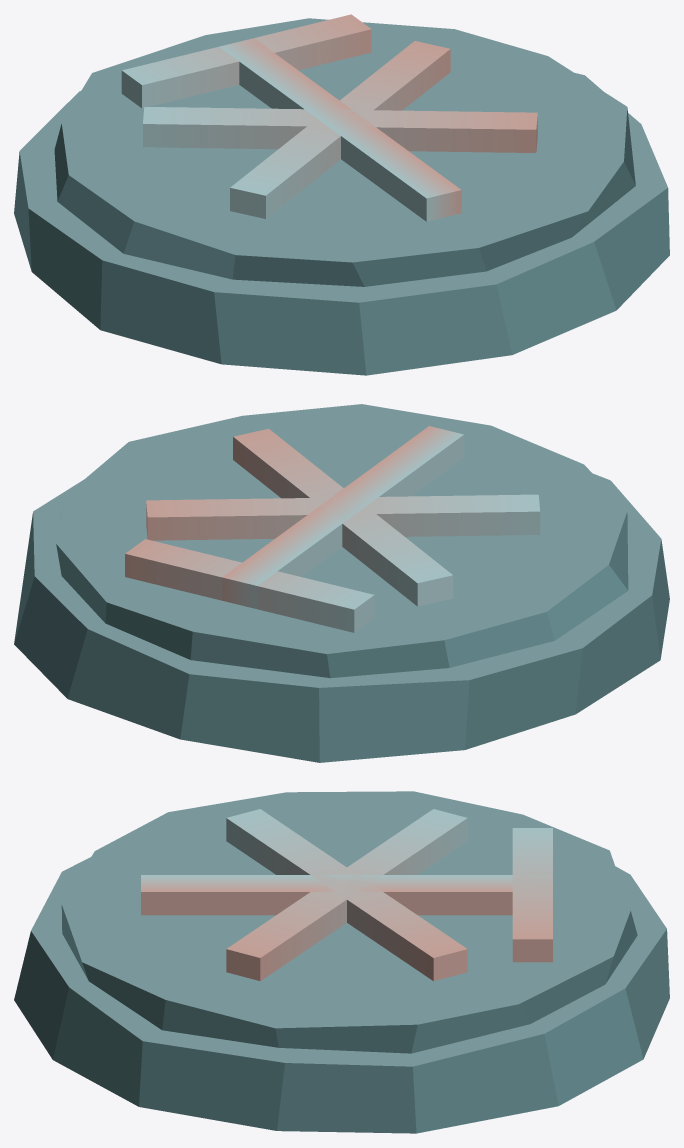
File: Spellstone_Elder.glb
3 renders of one model, top to bottom at view 1: azimuth 30°, elevation 25°; view 2: azimuth 150°, elevation 25°; view 3: azimuth 270°, elevation 25°, orthographic.
Parts seen in each view (by area): view 1: Spellstone_Elder; view 2: Spellstone_Elder; view 3: Spellstone_Elder.
Part boxes in pixels (x1,y1,x2,y2): Spellstone_Elder: (14, 14, 669, 375); Spellstone_Elder: (14, 404, 669, 762); Spellstone_Elder: (14, 791, 669, 1133).
Size of the model in its own units: 0.8275 by 0.163 by 0.8468.
